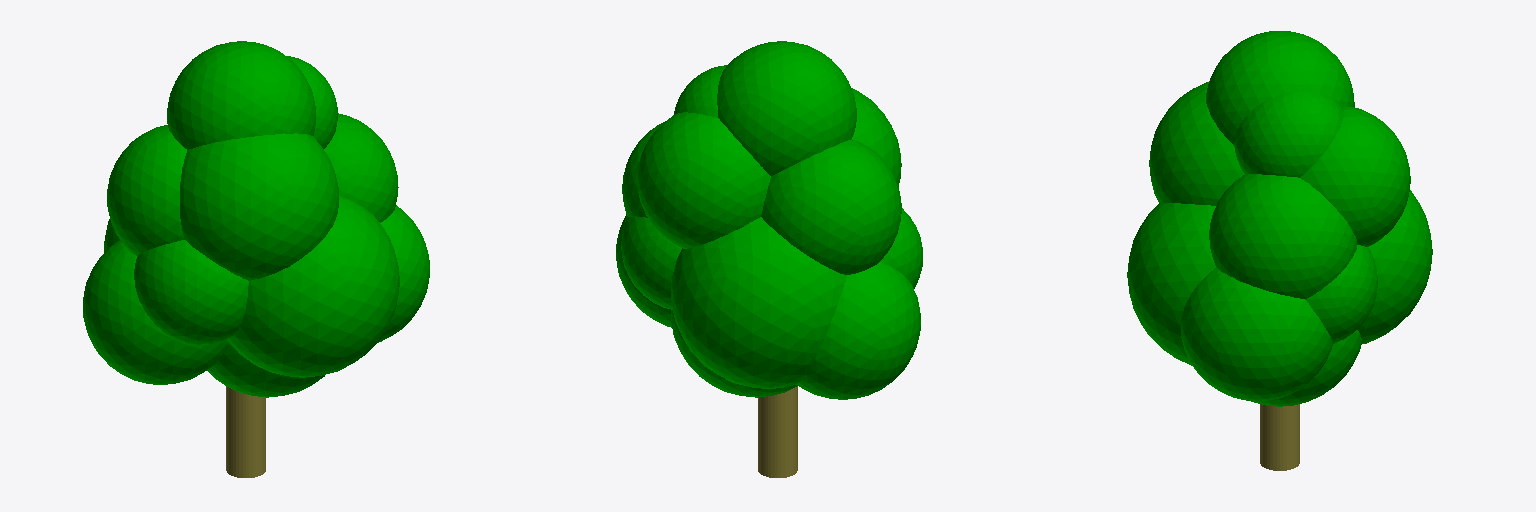
The picture shows the model from 3 angles: view 1: azimuth 30°, elevation 25°; view 2: azimuth 150°, elevation 25°; view 3: azimuth 270°, elevation 25°; orthographic projection.
Visible parts, largest first — view 1: Sphere, Cylinder; view 2: Sphere, Cylinder; view 3: Sphere, Cylinder.
Boxes of the visible parts, x1=… form: Sphere: x1=83, y1=41, x2=429, y2=397; Cylinder: x1=226, y1=386, x2=265, y2=477; Sphere: x1=616, y1=41, x2=922, y2=399; Cylinder: x1=758, y1=386, x2=797, y2=477; Sphere: x1=1127, y1=31, x2=1432, y2=406; Cylinder: x1=1260, y1=404, x2=1299, y2=470.
Bounding box in the file's own units: 53.4 × 70.65 × 46.25.
Materials: 2 (2 with a texture image).